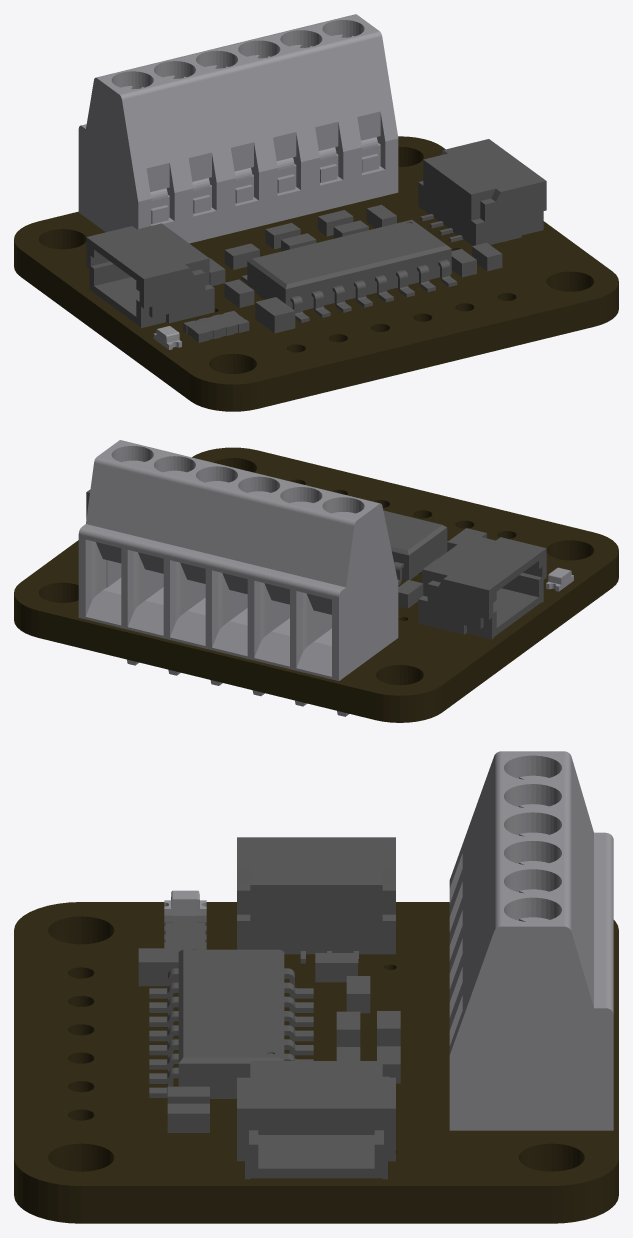
File: adafruit-nau7802.glb
The picture shows the model from 3 angles, top to bottom: view 1: azimuth 30°, elevation 25°; view 2: azimuth 150°, elevation 25°; view 3: azimuth 270°, elevation 25°; orthographic projection. The views are drawn at different scales.
Parts seen in each view (by area): view 1: adafruit-nau7802; view 2: adafruit-nau7802; view 3: adafruit-nau7802.
Boxes of the visible parts, <box> form: adafruit-nau7802: <box>14,14,618,411</box>; adafruit-nau7802: <box>14,440,618,722</box>; adafruit-nau7802: <box>14,751,618,1223</box>.
Size of the model in its own units: 25.4 by 12 by 22.86.
